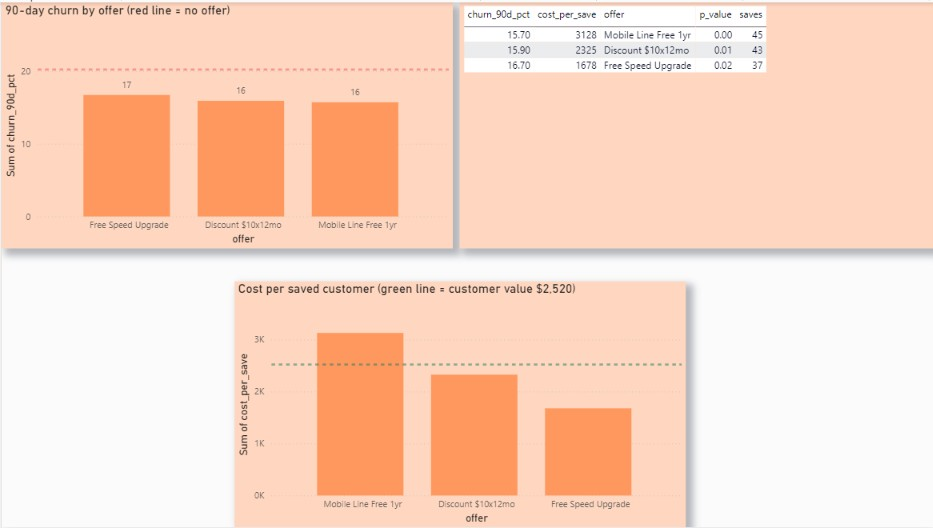

What the dashboard file says about the page in this screenshot:
{"tool":"powerbi","page":{"name":"Offer Test","canvas":[1280,720],"ordinal":3},"visuals":[{"type":"clusteredColumnChart","title":"90-day churn by offer (red line = no offer)","fields":{"Category":["offer_test_results.offer"],"Y":["Sum(offer_test_results.churn_90d_pct)"]},"box":[0,0,618.9,337.6],"z":0},{"type":"clusteredColumnChart","title":"Cost per saved customer (green line = customer value $2,520)","fields":{"Category":["offer_test_results.offer"],"Y":["Sum(offer_test_results.cost_per_save)"]},"box":[319.7,382.8,618.9,337.6],"z":1},{"type":"tableEx","fields":{"Values":["offer_test_results.churn_90d_pct","offer_test_results.cost_per_save","offer_test_results.offer","offer_test_results.p_value","offer_test_results.saves"]},"box":[628.5,0,651.8,337.6],"z":2}]}

Visuals, with their boxes in screenshot pixels (x1, y1, x2, y2), scaled from the page's 1280x720 canvas onto the 933x528 screenshot:
"90-day churn by offer (red line = no offer)" clusteredColumnChart: {"left": 0, "top": 0, "right": 451, "bottom": 248}
"Cost per saved customer (green line = customer value $2,520)" clusteredColumnChart: {"left": 233, "top": 281, "right": 684, "bottom": 527}
tableEx - offer_test_results.churn_90d_pct x offer_test_results.cost_per_save: {"left": 458, "top": 0, "right": 932, "bottom": 248}
